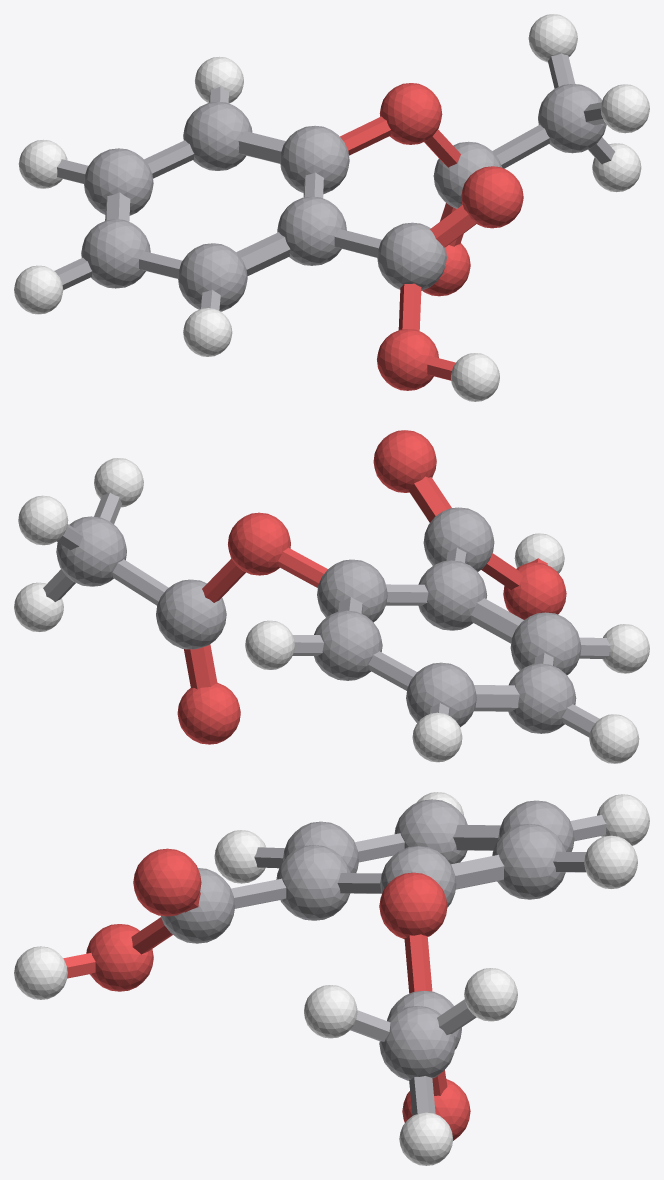
File: aspirin.glb
The picture shows the model from 3 angles, top to bottom: view 1: azimuth 30°, elevation 25°; view 2: azimuth 150°, elevation 25°; view 3: azimuth 270°, elevation 25°; orthographic projection. The views are drawn at different scales.
Parts seen in each view (by area): view 1: CID 2244_0, CID 2244_1, CID 2244_2, CID 2244_4, CID 2244_3, CID 2244_5, CID 2244_6; view 2: CID 2244_0, CID 2244_1, CID 2244_2, CID 2244_4, CID 2244_3, CID 2244_5, CID 2244_6; view 3: CID 2244_0, CID 2244_1, CID 2244_2, CID 2244_4, CID 2244_3, CID 2244_5, CID 2244_6.
Boxes of the visible parts, x1,y1,x2,y2 form: CID 2244_0: (81,84,606,311); CID 2244_1: (14,14,649,401); CID 2244_2: (377,83,523,390); CID 2244_4: (54,53,614,310); CID 2244_3: (73,73,603,305); CID 2244_5: (358,116,476,377); CID 2244_6: (340,127,460,380); CID 2244_0: (56,507,581,733); CID 2244_1: (14,458,649,763); CID 2244_2: (177,430,566,744); CID 2244_4: (43,492,610,737); CID 2244_3: (56,510,590,728); CID 2244_5: (187,476,523,689); CID 2244_6: (184,494,547,667); CID 2244_0: (161,799,574,1080); CID 2244_1: (14,792,649,1165); CID 2244_2: (86,848,470,1140); CID 2244_4: (231,815,606,1115); CID 2244_3: (256,819,584,1092); CID 2244_5: (81,924,447,1095); CID 2244_6: (63,892,440,1077).
Size of the model in its own units: 8.64 by 3.11 by 7.08.
